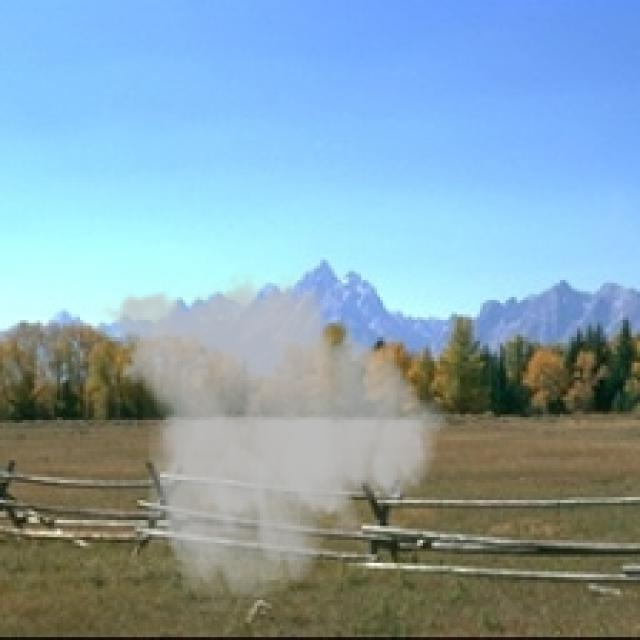Smoke: (94, 268, 457, 612)
